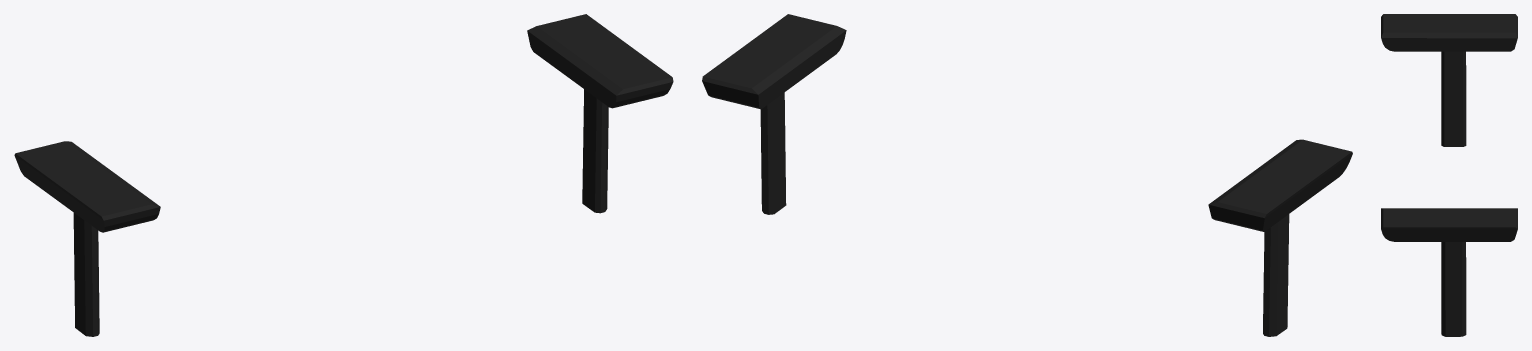
Rendered from Gaming_Chair_Arms_2.obj.
3 views of the same model, side by side, from view 1: azimuth 30°, elevation 25°; view 2: azimuth 150°, elevation 25°; view 3: azimuth 270°, elevation 25° (orthographic). The views are drawn at different scales.
Parts seen in each view (by area): view 1: Gaming_Chair_Arms_2; view 2: Gaming_Chair_Arms_2; view 3: Gaming_Chair_Arms_2.
Part boxes in pixels (x1,y1,x2,y2): Gaming_Chair_Arms_2: (14, 14, 673, 336); Gaming_Chair_Arms_2: (702, 14, 1352, 336); Gaming_Chair_Arms_2: (1381, 14, 1517, 336).
Bounding box in the file's own units: 0.7301 × 0.1899 × 0.1977.
